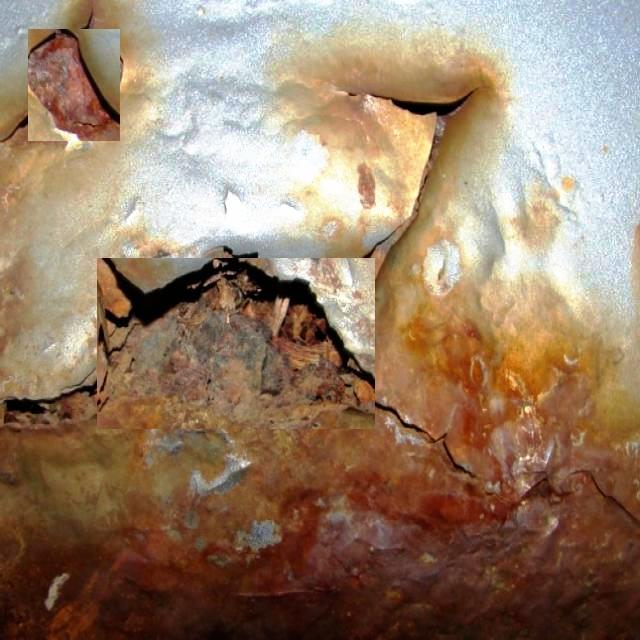Corrosion: (0, 257, 640, 640), (28, 30, 113, 139)
